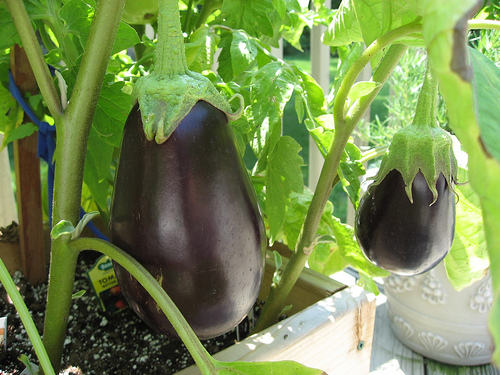eggplant: (109, 45, 277, 346), (353, 107, 460, 276)
